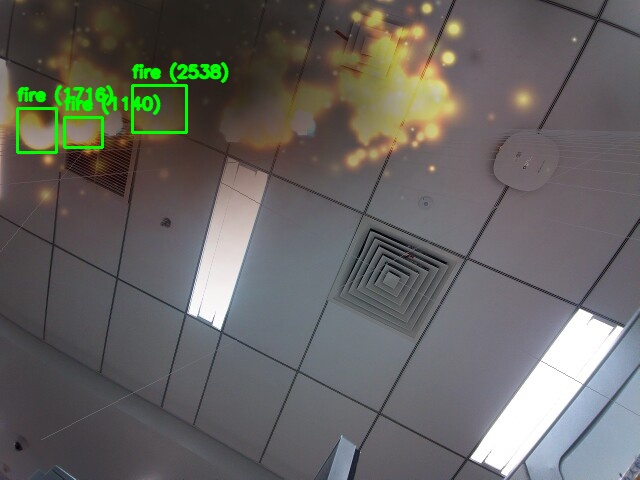fire: (132, 85, 186, 132), (17, 108, 56, 152), (64, 117, 102, 147)
